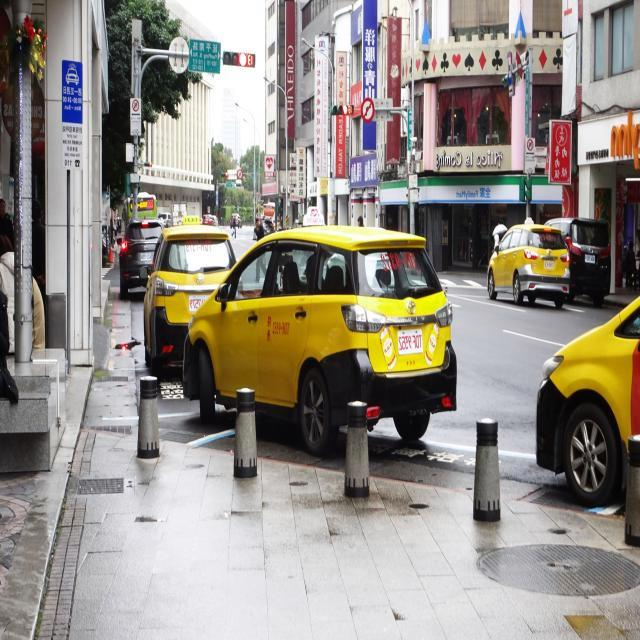taxi: (178, 207, 469, 455), (516, 277, 640, 511), (144, 209, 245, 358), (485, 209, 582, 327)
